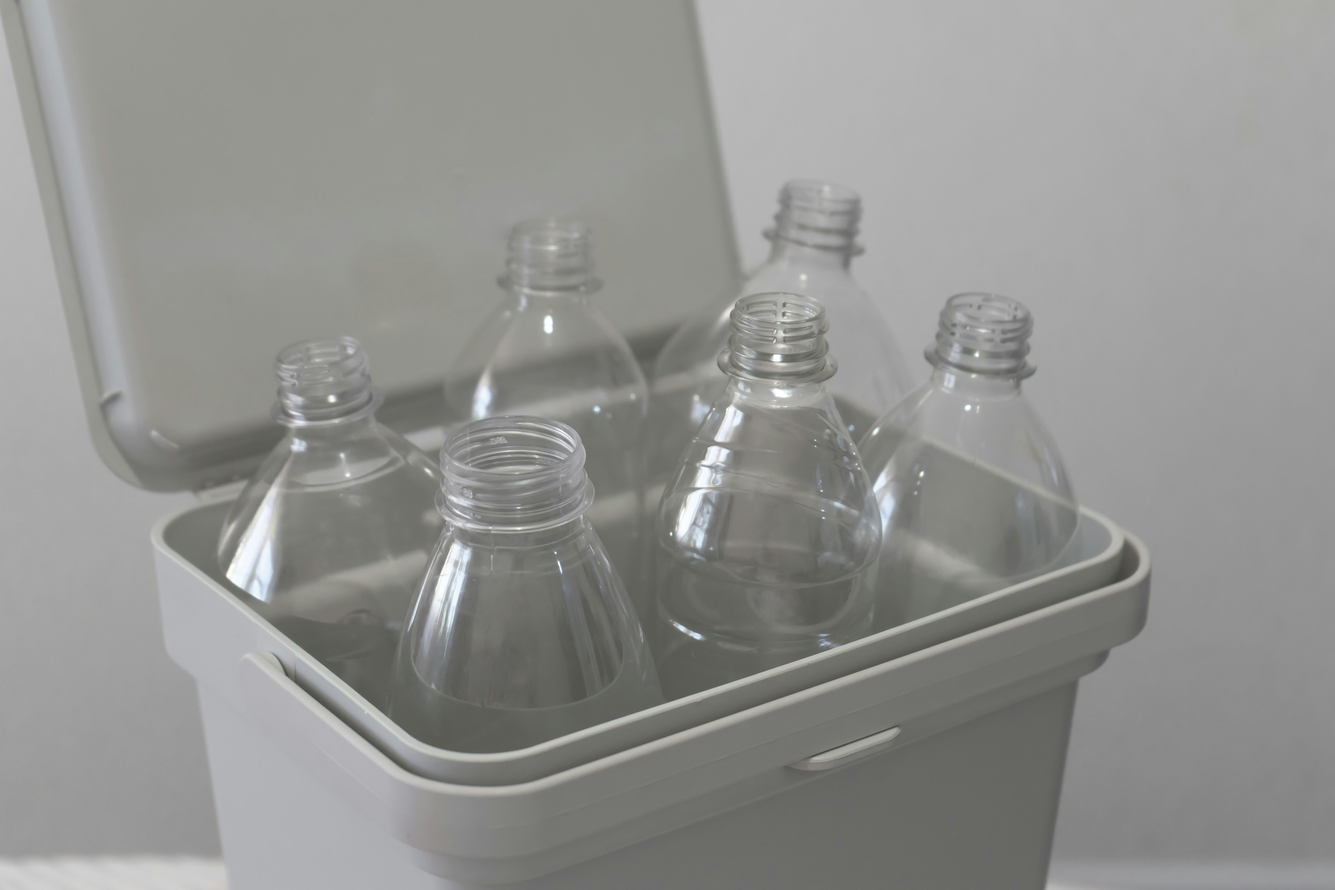Bottle-Detection: (636, 276, 897, 690), (376, 403, 674, 765), (205, 323, 507, 679), (857, 260, 1090, 656), (665, 134, 919, 465), (436, 198, 670, 467)
